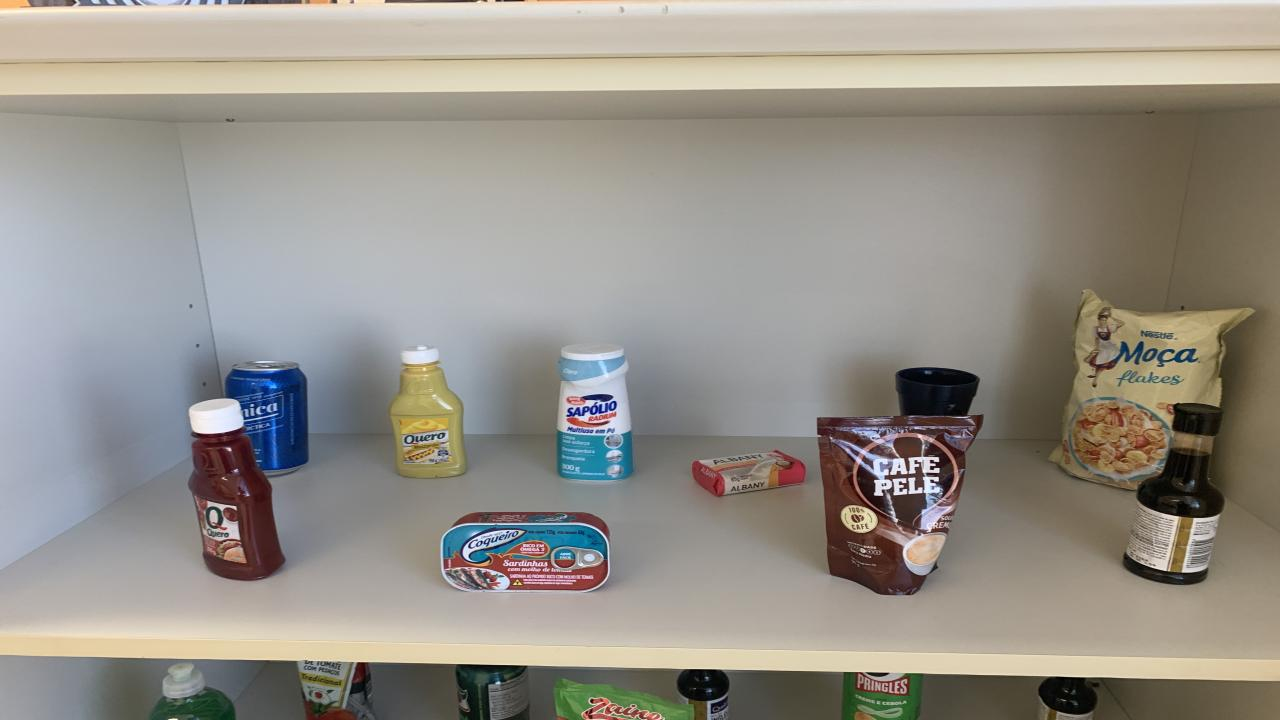Cleaner-Cleanup_Items: (558, 343, 632, 482)
Coffee-Pantry_Items: (818, 414, 982, 594)
Detergent-Cleanup_Items: (148, 664, 235, 720)
English_Sauce-Pantry_Items: (1122, 403, 1225, 585), (678, 669, 730, 720), (1038, 677, 1098, 720)
Flakes-Snacks: (1050, 291, 1252, 488)
Guarana_Can-Drinks: (455, 666, 530, 720)
Ketchup-Pantry_Items: (188, 398, 285, 579)
Mustard-Pantry_Items: (390, 345, 465, 478)
Pringles-Snacks: (842, 673, 922, 720)
Soap-Cleanup_Items: (692, 450, 805, 495)
Tomato_Sauce-Pantry_Items: (552, 677, 695, 720), (298, 660, 375, 720)
Tonic-Drinks: (225, 362, 308, 474)
Tuna_Can-Pantry_Items: (440, 512, 610, 592)
